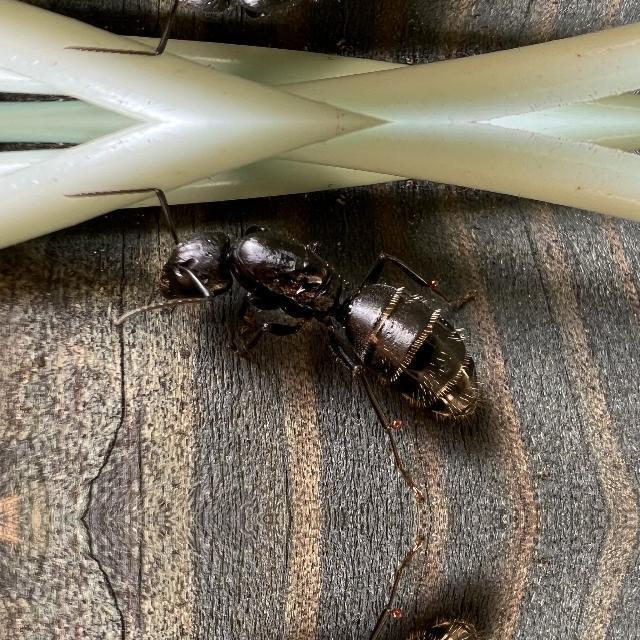Camponotus: (128, 173, 492, 439), (126, 0, 491, 68)
